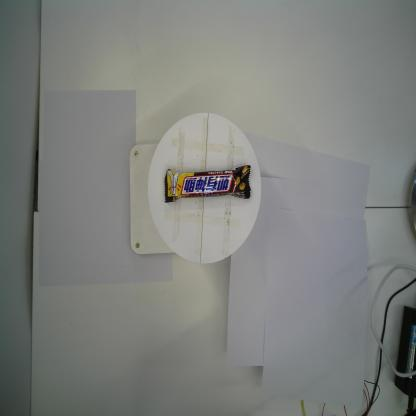Chocolate: (164, 164, 252, 204)
